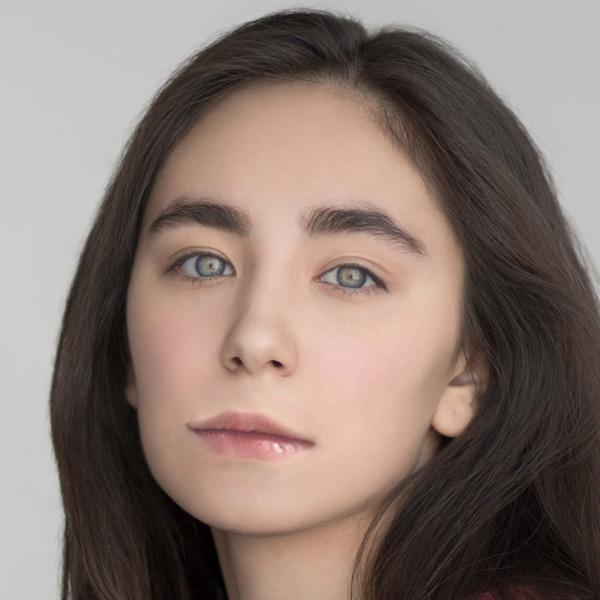Eyes: (304, 245, 395, 304), (157, 240, 245, 291)
